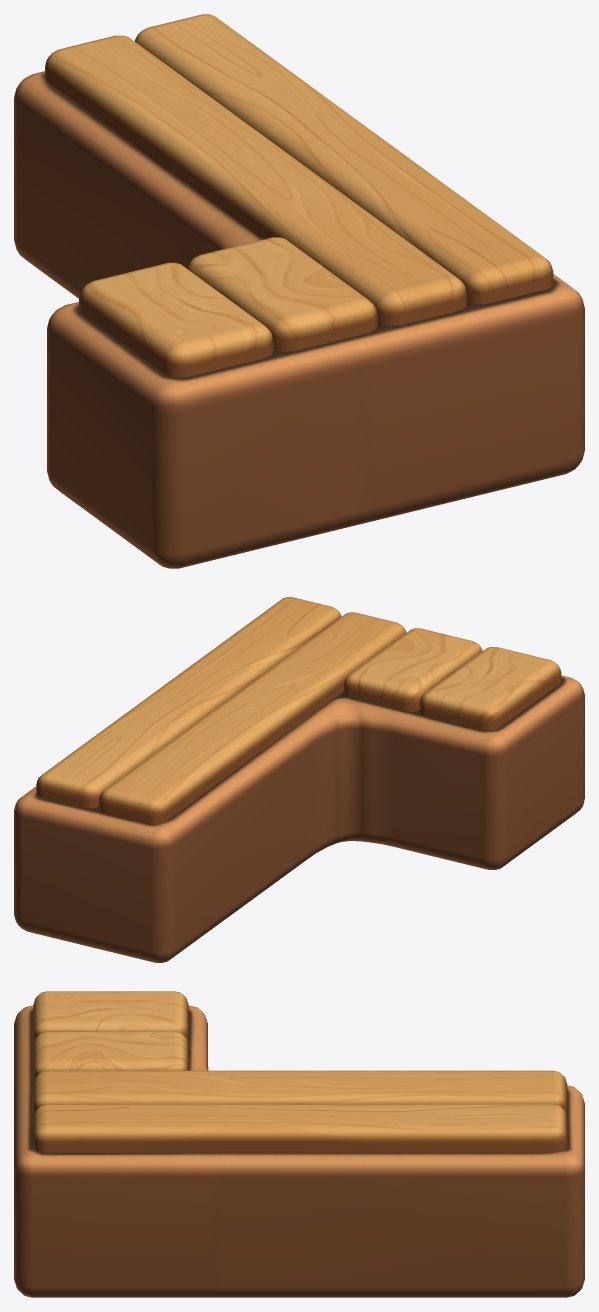
Rendered from WoodenBox_LN_2x3.fbx.
3 views of the same model, one above another, from view 1: azimuth 30°, elevation 25°; view 2: azimuth 150°, elevation 25°; view 3: azimuth 270°, elevation 25° (orthographic). The views are drawn at different scales.
Visible parts, largest first — view 1: boxLN_2x3; view 2: boxLN_2x3; view 3: boxLN_2x3.
Part boxes in pixels (x1,y1,x2,y2): boxLN_2x3: [14, 14, 584, 568]; boxLN_2x3: [14, 597, 584, 962]; boxLN_2x3: [14, 991, 584, 1297].
Bounding box in the file's own units: 2.03 × 0.961 × 3.03.
